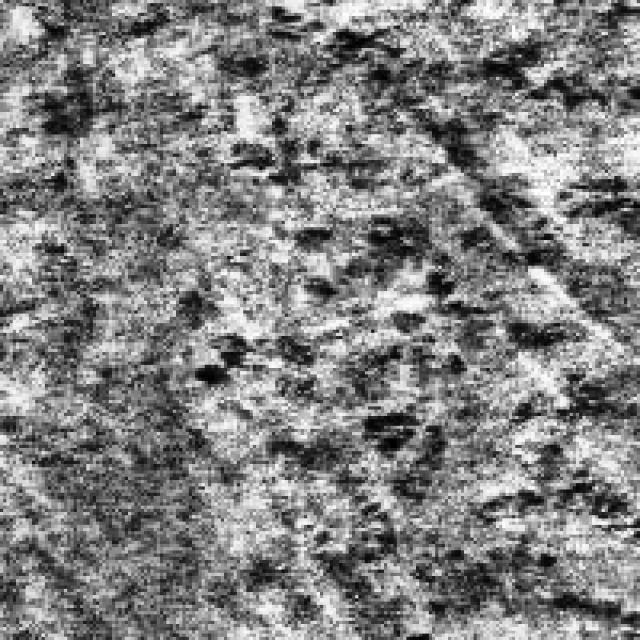Crazing: (153, 211, 492, 634), (188, 3, 390, 192)
